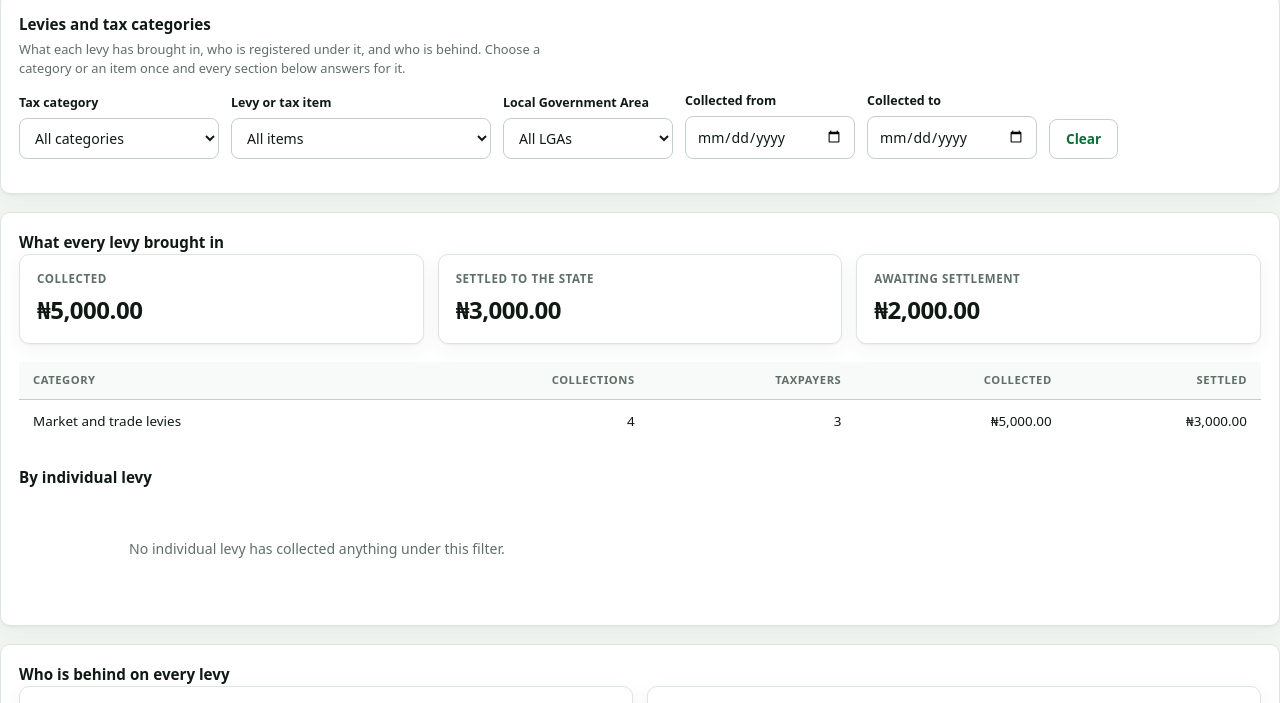
Test: the registrant roll says when it is not everybody › says nothing when the roll is genuinely shorter than the page
Step 1. Select "Market and trade levies" in the dropdown labelled "Tax category" → (119, 138), box [19,118,219,159]
(page scrolled)
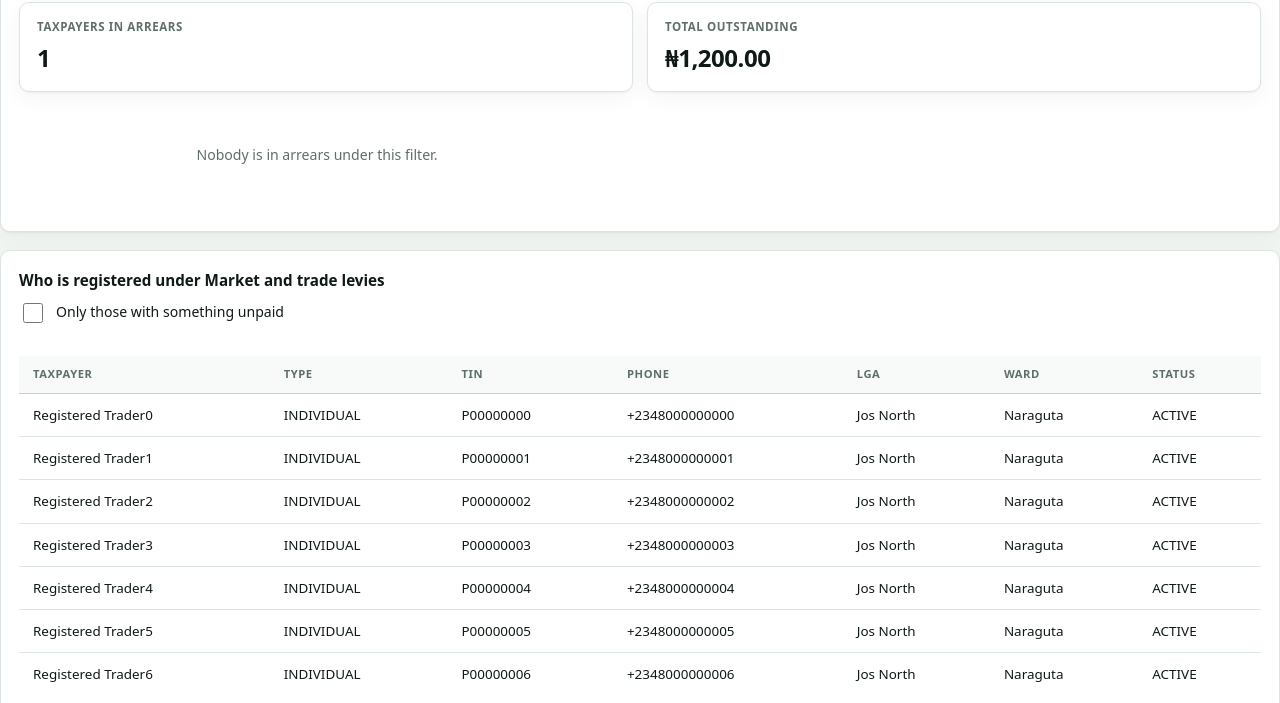
Now the text "Registered Trader0" is shown, box [19,394,270,437]
